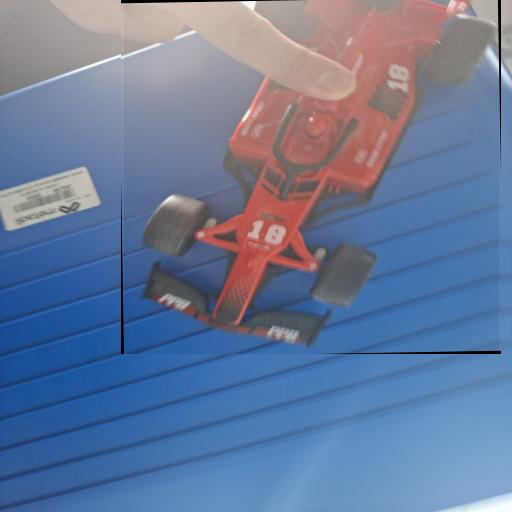carro: (124, 0, 499, 354)
